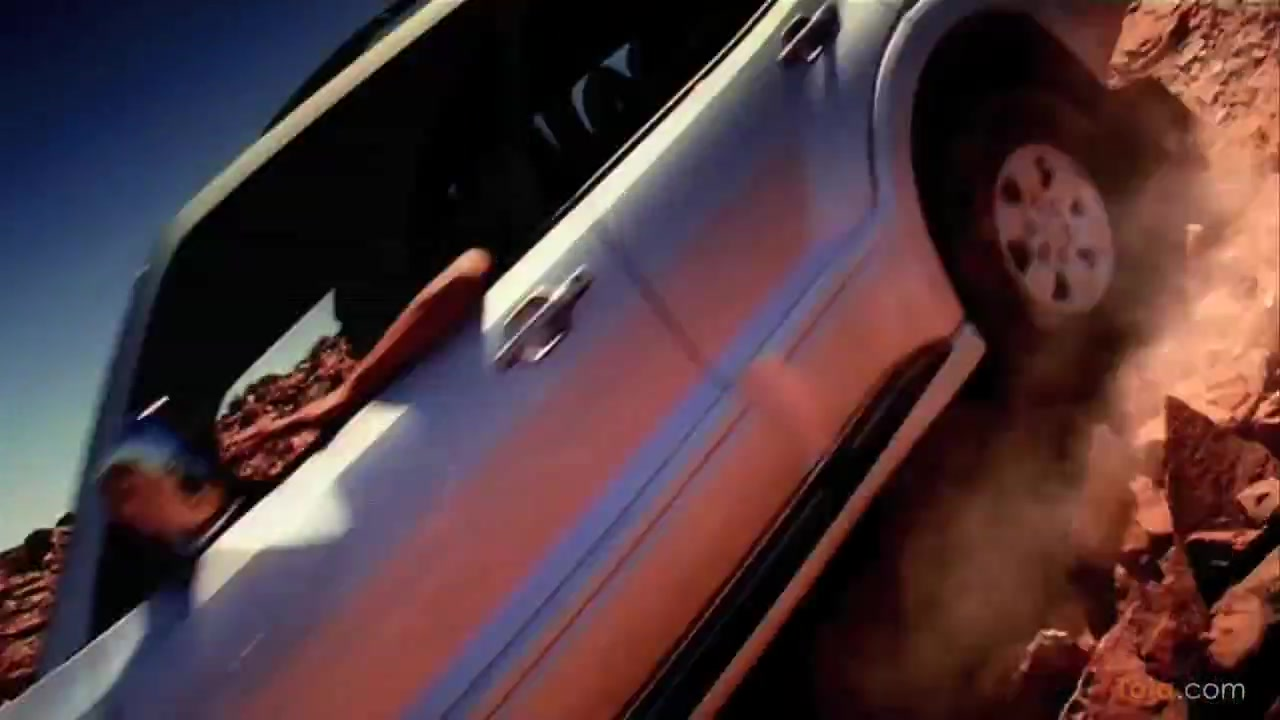car: (1, 3, 1166, 720)
